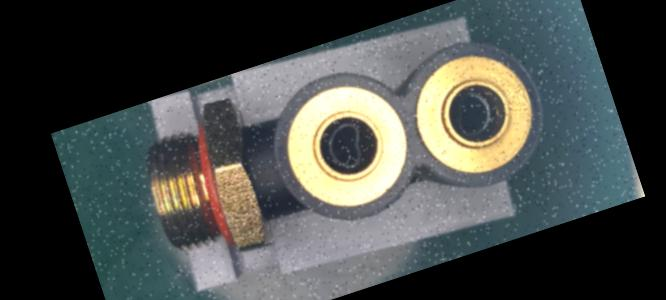off-centered: (306, 112, 377, 185), (442, 81, 500, 143)
